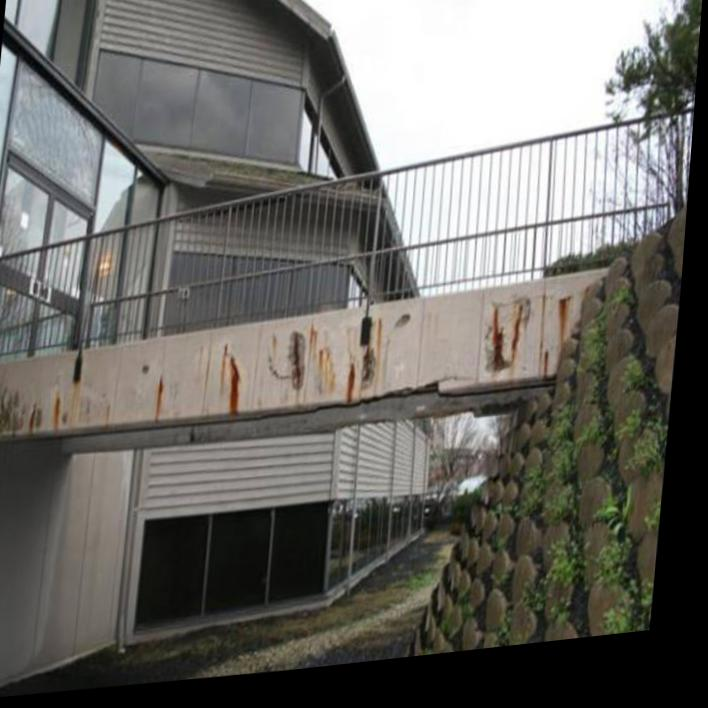crack: (498, 309, 537, 343), (272, 354, 300, 387), (535, 306, 581, 316), (6, 386, 15, 414)
damage: (323, 387, 493, 419), (489, 316, 529, 391), (294, 338, 312, 399)
